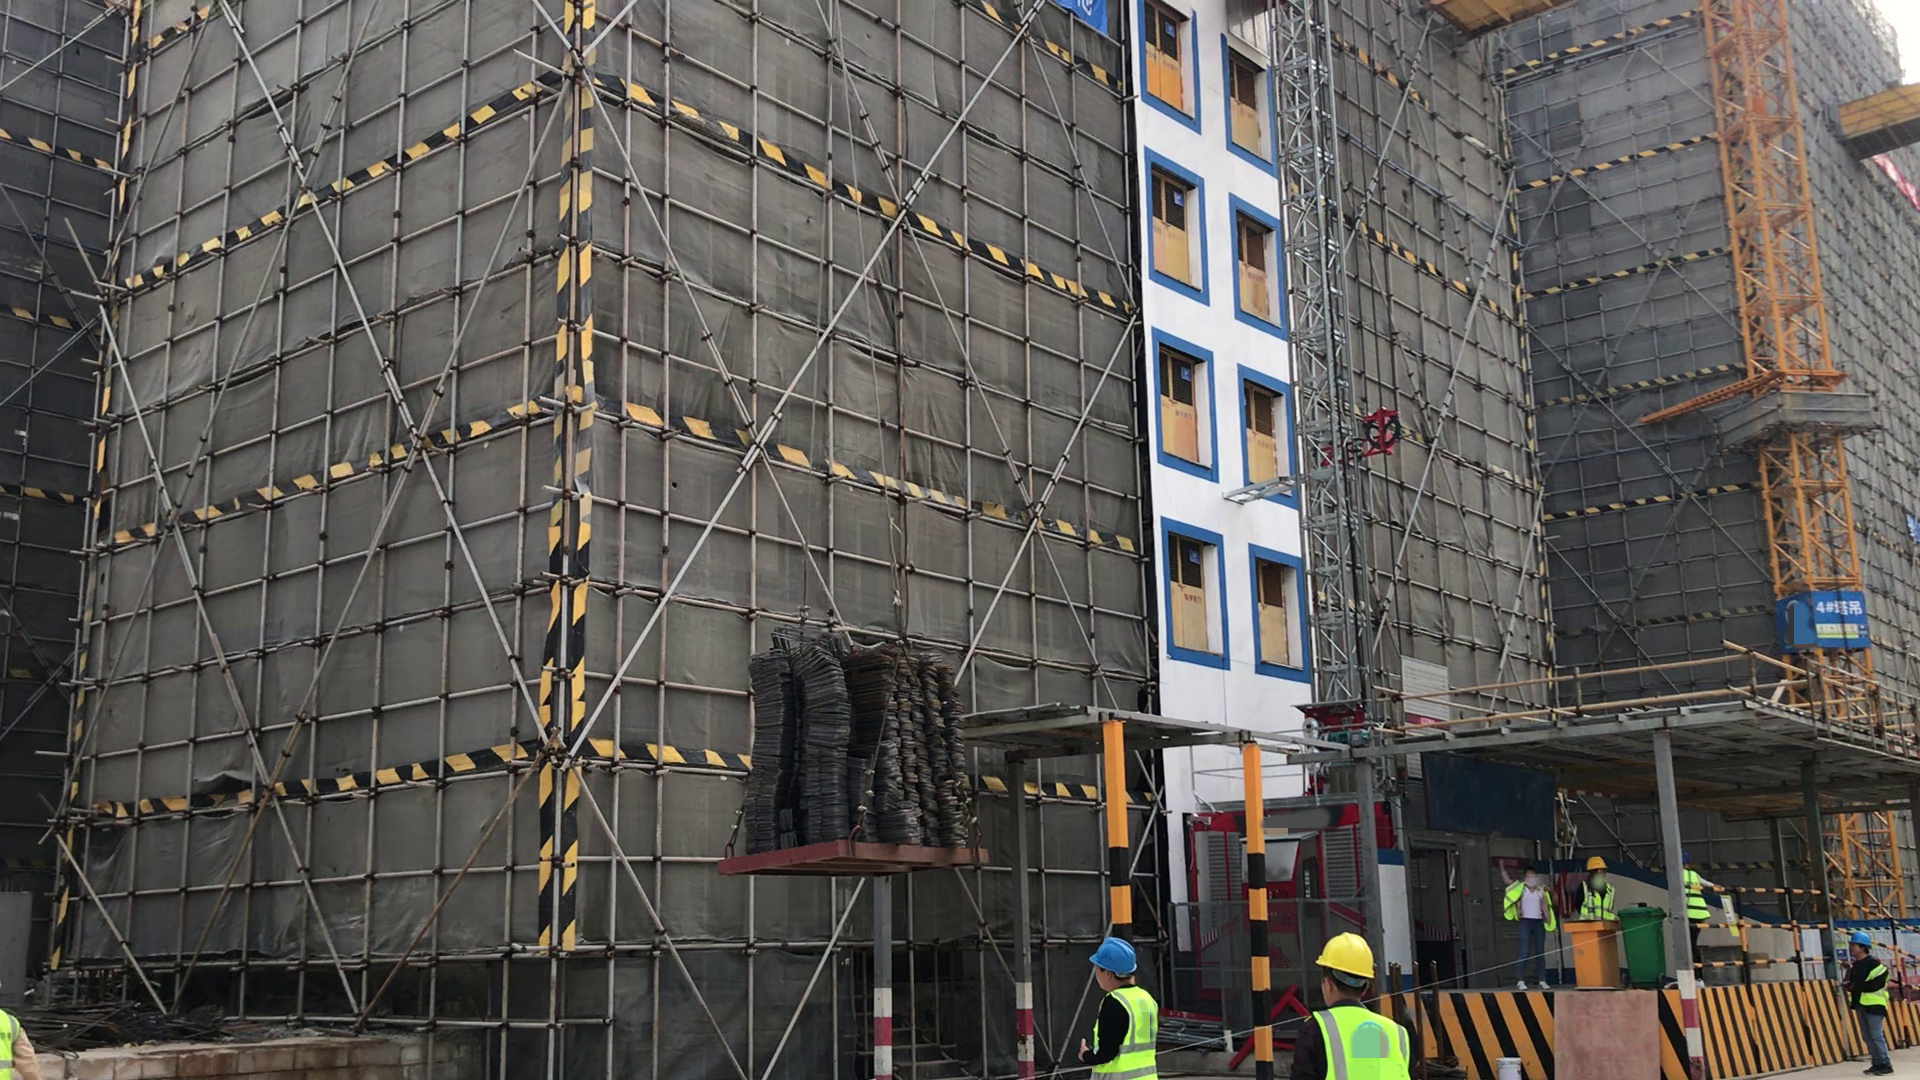helmet: (1306, 929, 1383, 981), (1089, 937, 1146, 984), (1844, 923, 1879, 951), (1586, 850, 1616, 880)
person: (1279, 931, 1419, 1080), (1071, 926, 1163, 1080), (1839, 924, 1914, 1080), (1500, 861, 1562, 991), (1667, 858, 1727, 954), (1569, 851, 1625, 949), (1, 989, 47, 1080)
vest: (1297, 991, 1417, 1080), (1086, 985, 1162, 1080), (1671, 860, 1720, 941), (1501, 877, 1559, 937), (1, 999, 37, 1080), (1847, 949, 1894, 1012), (1575, 872, 1625, 922)
